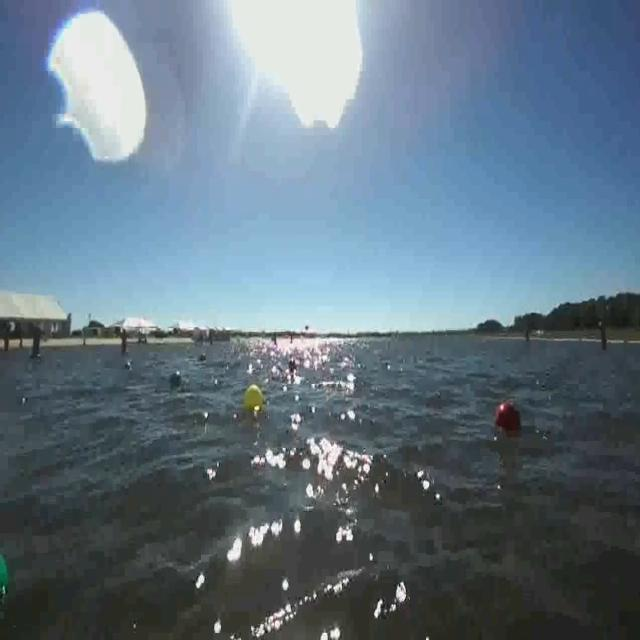red-buoy: (495, 397, 523, 436)
yellow-buoy: (241, 380, 265, 414)
